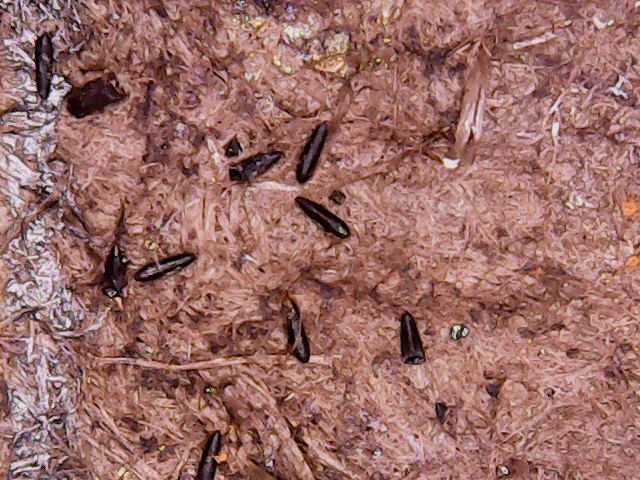full: (276, 299, 324, 376), (288, 193, 356, 241), (389, 304, 434, 373), (24, 29, 61, 107), (227, 139, 286, 184), (294, 118, 332, 186), (134, 251, 205, 282), (188, 430, 232, 480), (96, 239, 128, 305)
